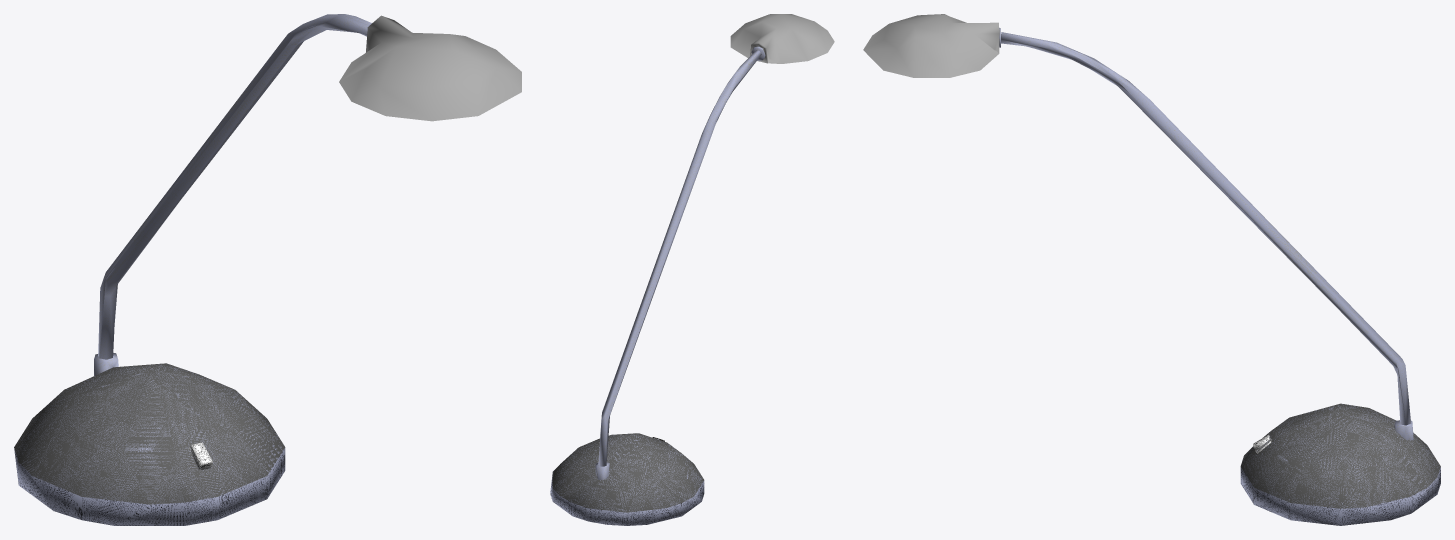
The model's file is Lamp.fbx.
The picture shows the model from 3 angles, left to right: view 1: azimuth 30°, elevation 25°; view 2: azimuth 150°, elevation 25°; view 3: azimuth 270°, elevation 25°; orthographic projection. The views are drawn at different scales.
Parts seen in each view (by area): view 1: Model; view 2: Model; view 3: Model.
Part boxes in pixels (bbox=[...]): Model: bbox=[14, 14, 521, 525]; Model: bbox=[550, 14, 834, 525]; Model: bbox=[863, 14, 1440, 525].
Bounding box in the file's own units: 7.42 × 18.94 × 21.42.
